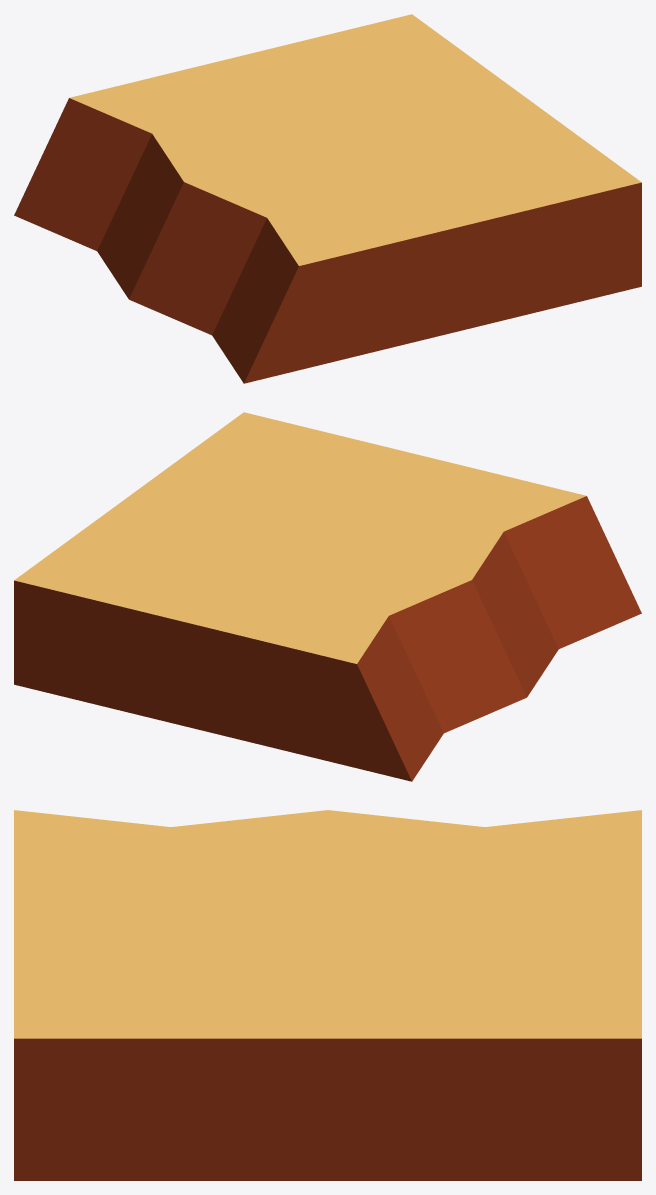
Rendered from sand_end.fbx.
3 views of the same model, one above another, from view 1: azimuth 30°, elevation 25°; view 2: azimuth 150°, elevation 25°; view 3: azimuth 270°, elevation 25° (orthographic). The views are drawn at different scales.
Parts seen in each view (by area): view 1: sand_end; view 2: sand_end; view 3: sand_end.
Part boxes in pixels (<box>): sand_end: <box>14,14,641,383</box>; sand_end: <box>14,412,641,781</box>; sand_end: <box>14,810,641,1180</box>.
Bounding box in the file's own units: 200 × 50 × 200.
